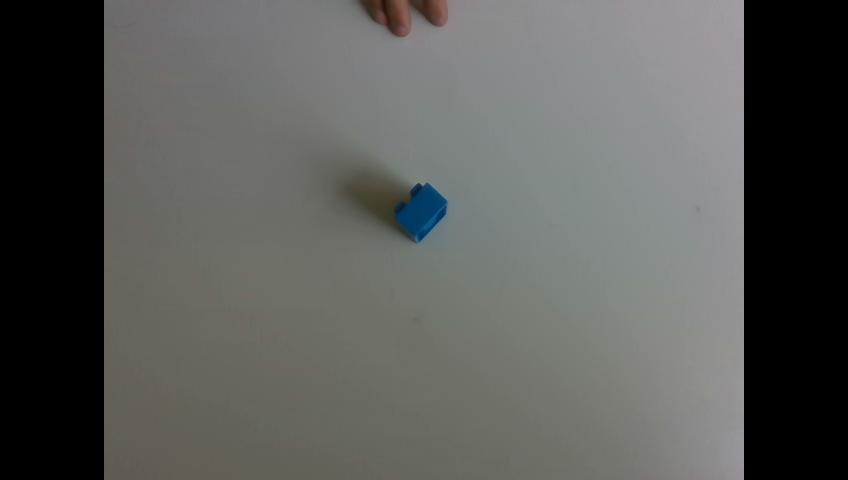4x2_blue: (396, 182, 448, 242)
